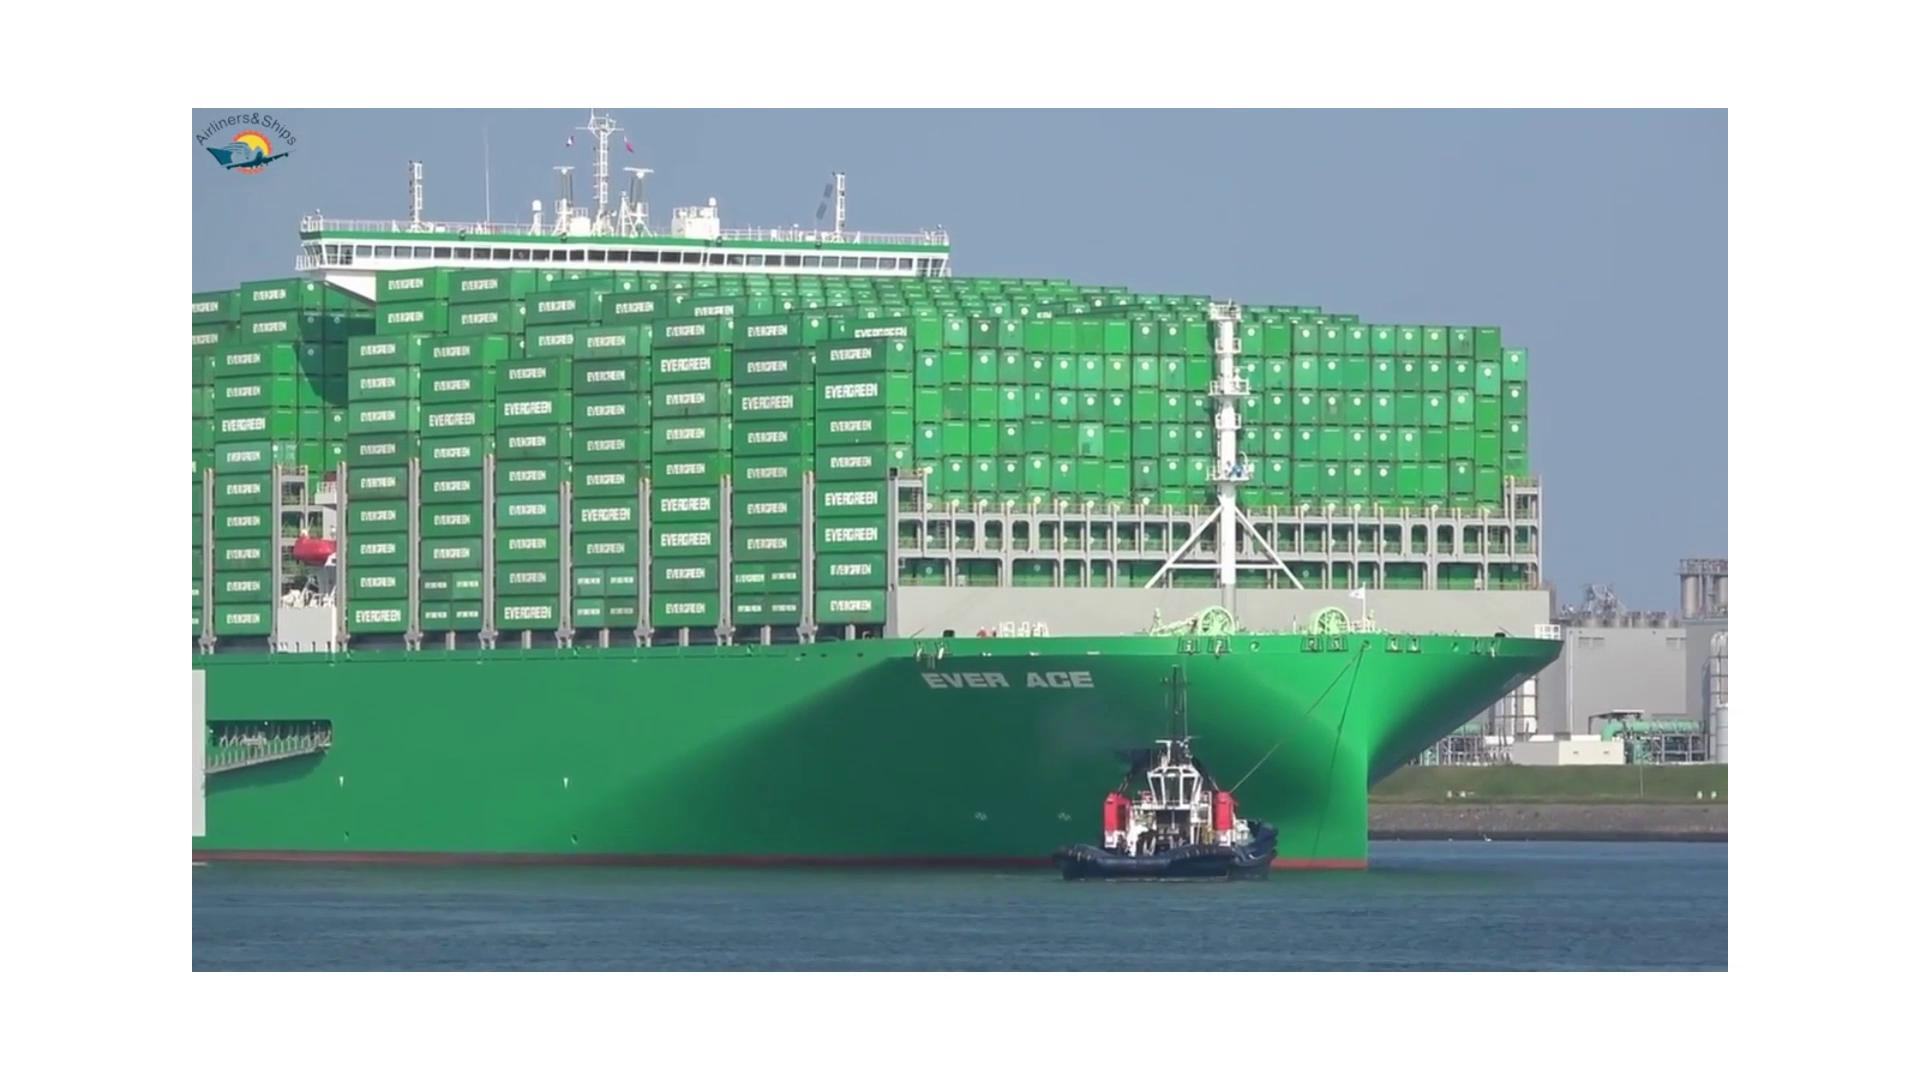OCR: (895, 649, 1117, 708)
